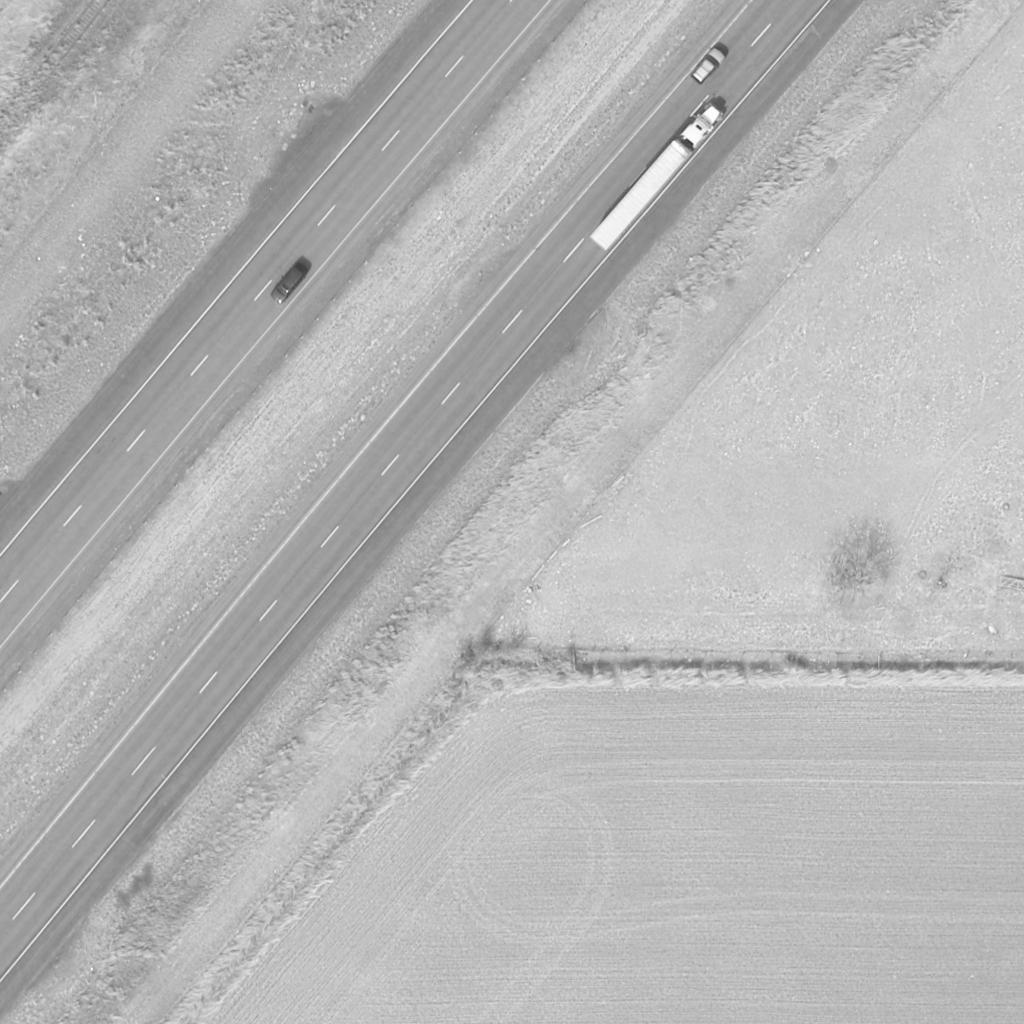vehicle: (590, 101, 726, 251), (268, 265, 308, 305), (689, 48, 727, 86)
